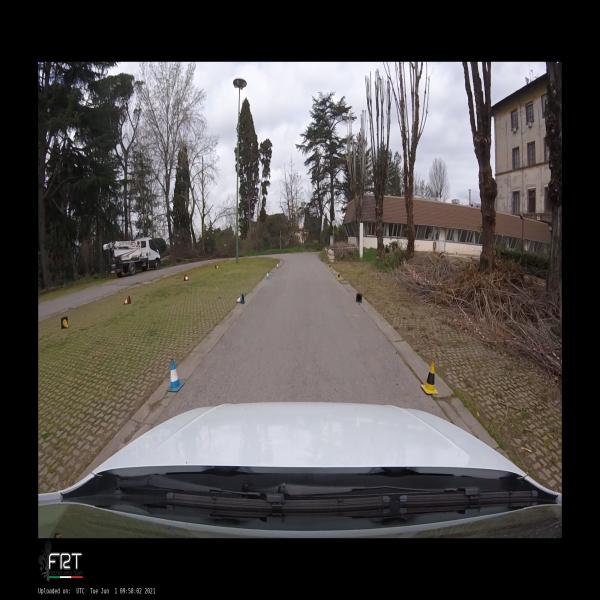blue_cone: (166, 358, 184, 392), (236, 293, 245, 304), (265, 272, 270, 280), (276, 262, 278, 268)
orange_cone: (123, 295, 131, 305), (184, 274, 189, 281), (216, 265, 219, 268)
unknown_cone: (61, 316, 69, 329), (356, 293, 362, 303)
yellow_cone: (420, 362, 439, 394), (337, 271, 341, 280), (329, 264, 330, 269)
